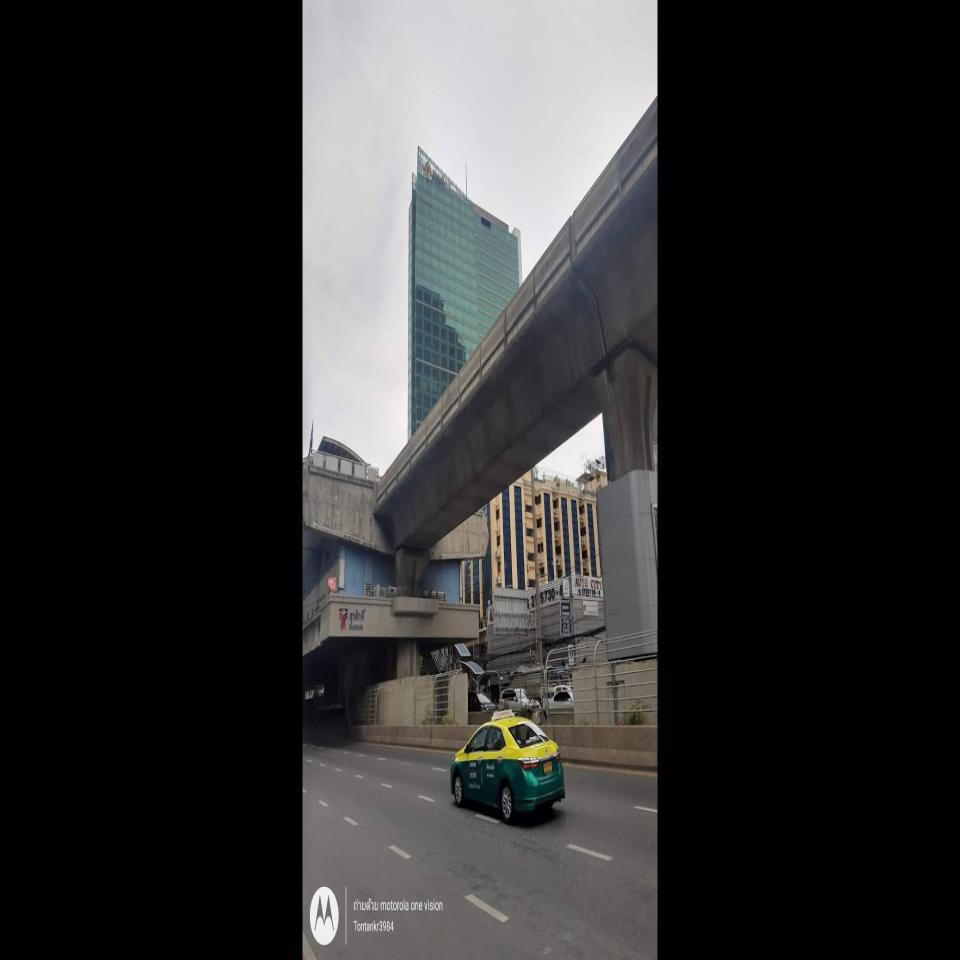Surasak: (338, 608, 366, 631), (349, 608, 366, 631)
